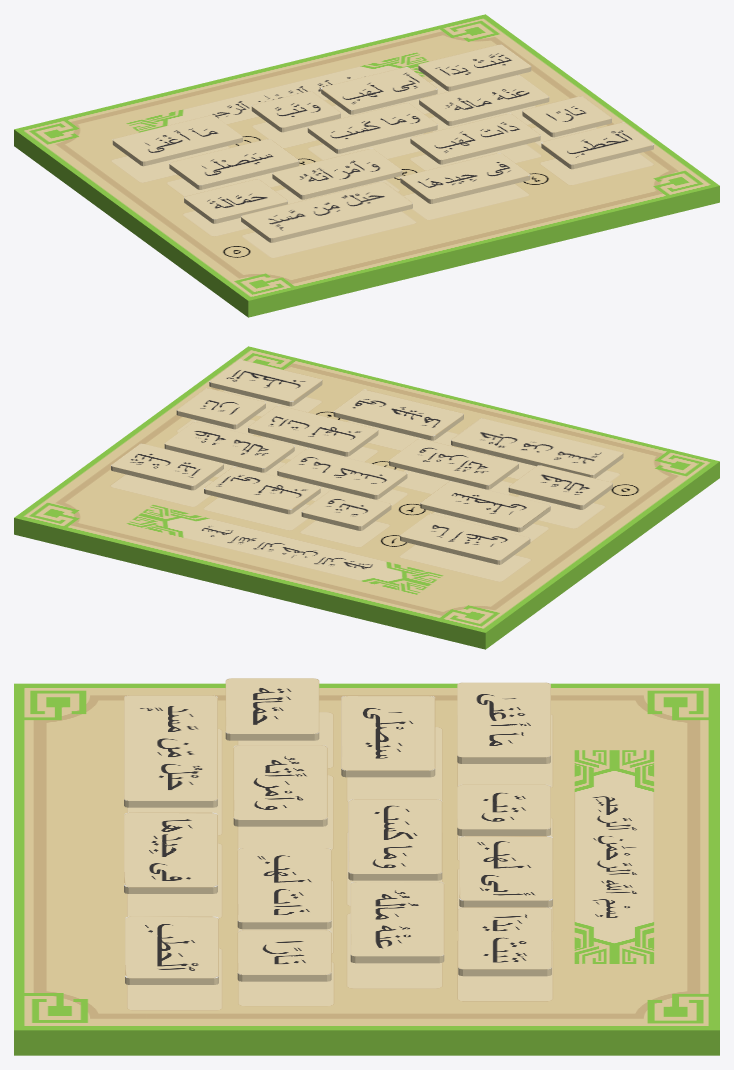
The model's file is AL-LAHAB_Asset.fbx.
3 renders of one model, top to bottom at view 1: azimuth 30°, elevation 25°; view 2: azimuth 150°, elevation 25°; view 3: azimuth 270°, elevation 25°, orthographic. The views are drawn at different scales.
Visible parts, largest first — view 1: 0, 14, 4, 10, 9, 7, 13, 6, 5, 2, 1, 12 (+3 smaller); view 2: 0, 14, 4, 7, 9, 13, 6, 5, 10, 2, 1, 12 (+3 smaller); view 3: 0, 14, 10, 6, 7, 9, 5, 4, 13, 2, 1, 12 (+3 smaller).
Boxes of the visible parts, x1,y1,x2,y2 form: 0: (14,14,719,317); 14: (241,181,412,242); 4: (112,115,242,166); 10: (272,148,402,199); 9: (410,113,540,164); 7: (169,139,299,189); 13: (400,153,530,203); 6: (307,103,437,153); 5: (419,75,549,125); 2: (321,67,437,114); 1: (418,44,531,91); 12: (541,122,653,169); 0: (14,346,719,649); 14: (451,418,623,478); 4: (400,513,530,564); 7: (420,481,550,532); 9: (248,405,378,456); 13: (333,389,463,440); 6: (277,448,407,499); 5: (164,421,294,472); 10: (389,438,518,489); 2: (204,466,320,514); 1: (111,443,223,490); 12: (209,359,322,406); 0: (14,683,719,1055); 14: (124,695,217,807); 10: (233,745,327,826); 6: (348,799,442,880); 7: (341,696,435,777); 9: (237,848,331,929); 5: (350,882,444,963); 4: (457,682,550,763); 13: (124,812,217,893); 2: (459,836,552,907); 1: (458,907,551,976); 12: (125,916,218,984).
Size of the model in its own units: 236 by 18 by 203.
15 materials, 15 textured.
